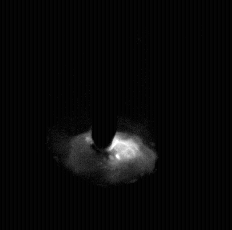arame: (93, 0, 117, 148)
poca: (53, 0, 155, 230)
